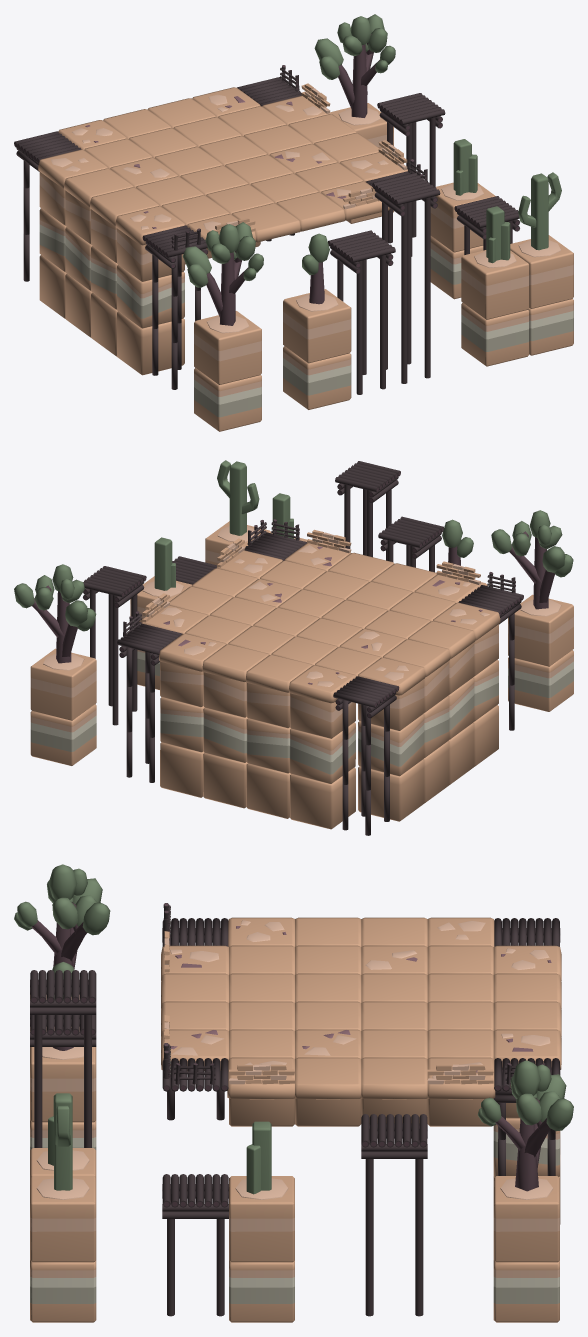
Rendered from StageGroundAssemble_C_GS_A_66.fbx.
The picture shows the model from 3 angles, top to bottom: view 1: azimuth 30°, elevation 25°; view 2: azimuth 150°, elevation 25°; view 3: azimuth 270°, elevation 25°; orthographic projection. The views are drawn at different scales.
Parts seen in each view (by area): view 1: stage_c_background_deco_gs_004, stage_c_background_deco_gs, stage_c_background_deco_gs_006, stage_c_background_deco_gs_005, stage_c_background_deco_gs_004__1_, stage_c_background_deco_gs_002, stage_c_background_deco_gs_006__1_, stage_c_background_deco_gs_001__1_, stage_c_background_deco_gs_001, stage_c_block_base_gs_002__13_, stage_c_block_base_gs_001__13_, stage_c_background_deco_gs_003 (+47 smaller); view 2: stage_c_background_deco_gs_004__1_, stage_c_background_deco_gs_004, stage_c_background_deco_gs_001, stage_c_background_deco_gs_002, stage_c_background_deco_gs_005, stage_c_block_base_gs_001__27_, stage_c_block_base_gs_002__27_, stage_c_block_base_gs_002__23_, stage_c_block_base_gs_001__23_, stage_c_background_deco_gs_006__1_, stage_c_background_deco_gs_001__1_, stage_c_block_base_gs_002__25_ (+66 smaller); view 3: stage_c_background_deco_gs_004__1_, stage_c_background_deco_gs_005, stage_c_background_deco_gs_006__1_, stage_c_background_deco_gs_001, stage_c_background_deco_gs_002, stage_c_background_deco_gs_004, stage_c_background_deco_gs_003, stage_c_background_deco_gs, stage_c_block_cover_gs__17_, stage_c_block_cover_gs__7_, stage_c_block_cover_gs__25_, stage_c_block_cover_gs__35_ (+43 smaller).
Part boxes in pixels (box(x1,y1,x2,y2)): stage_c_background_deco_gs_004: box(182, 222, 263, 431); stage_c_background_deco_gs: box(283, 233, 351, 409); stage_c_background_deco_gs_006: box(461, 206, 529, 366); stage_c_background_deco_gs_005: box(510, 172, 573, 355); stage_c_background_deco_gs_004__1_: box(314, 14, 395, 223); stage_c_background_deco_gs_002: box(372, 173, 440, 383); stage_c_background_deco_gs_006__1_: box(430, 139, 495, 299); stage_c_background_deco_gs_001__1_: box(328, 230, 395, 394); stage_c_background_deco_gs_001: box(377, 93, 445, 256); stage_c_block_base_gs_002__13_: box(117, 311, 184, 375); stage_c_block_base_gs_001__13_: box(117, 264, 184, 328); stage_c_background_deco_gs_003: box(454, 196, 519, 254); stage_c_background_deco_gs_004__1_: box(14, 564, 96, 765); stage_c_background_deco_gs_004: box(491, 510, 573, 711); stage_c_background_deco_gs_001: box(83, 566, 146, 725); stage_c_background_deco_gs_002: box(335, 461, 400, 560); stage_c_background_deco_gs_005: box(205, 460, 270, 565); stage_c_block_base_gs_001__27_: box(289, 722, 355, 783); stage_c_block_base_gs_002__27_: box(290, 767, 355, 829); stage_c_block_base_gs_002__23_: box(358, 759, 424, 821); stage_c_block_base_gs_001__23_: box(358, 714, 424, 776); stage_c_background_deco_gs_006__1_: box(130, 537, 191, 689); stage_c_background_deco_gs_001__1_: box(378, 516, 443, 572); stage_c_block_base_gs_002__25_: box(203, 753, 247, 808); stage_c_background_deco_gs_004__1_: box(477, 1060, 573, 1322); stage_c_background_deco_gs_005: box(30, 1093, 96, 1322); stage_c_background_deco_gs_006__1_: box(229, 1121, 294, 1322); stage_c_background_deco_gs_001: box(361, 1114, 427, 1316); stage_c_background_deco_gs_002: box(30, 970, 96, 1147); stage_c_background_deco_gs_004: box(14, 864, 110, 1031); stage_c_background_deco_gs_003: box(162, 1174, 228, 1316); stage_c_background_deco_gs: box(30, 962, 96, 1149); stage_c_block_cover_gs__17_: box(361, 1057, 427, 1099); stage_c_block_cover_gs__7_: box(295, 1057, 361, 1099); stage_c_block_cover_gs__25_: box(493, 1001, 561, 1036); stage_c_block_cover_gs__35_: box(493, 973, 561, 1008).
Bounding box in the file's own units: 3449 × 1668 × 3382.
3 materials, 3 textured.
